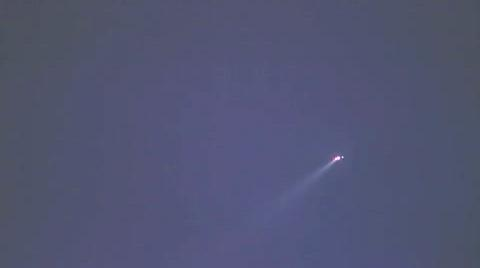Plane: (286, 145, 359, 191)
